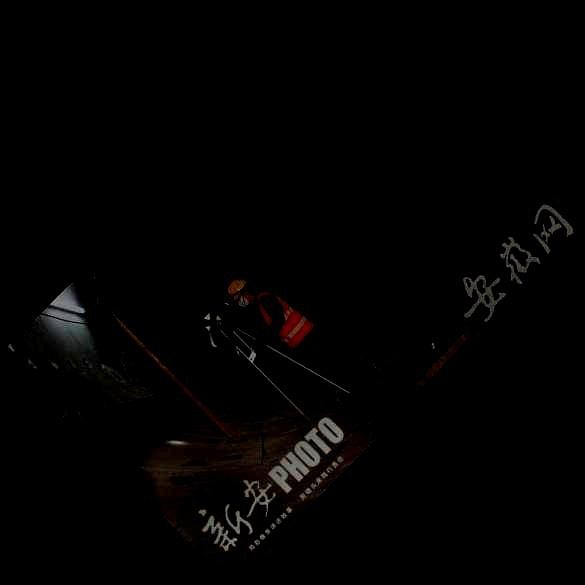helmet: (227, 279, 252, 308)
